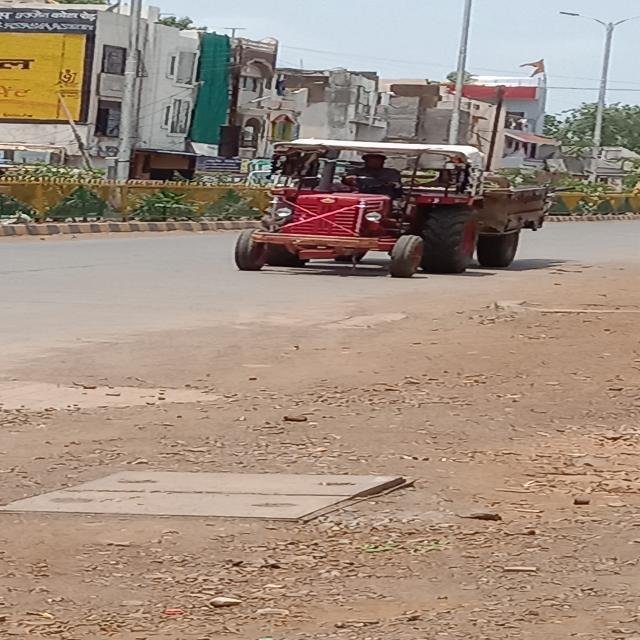tractor_front: (233, 133, 556, 282)
